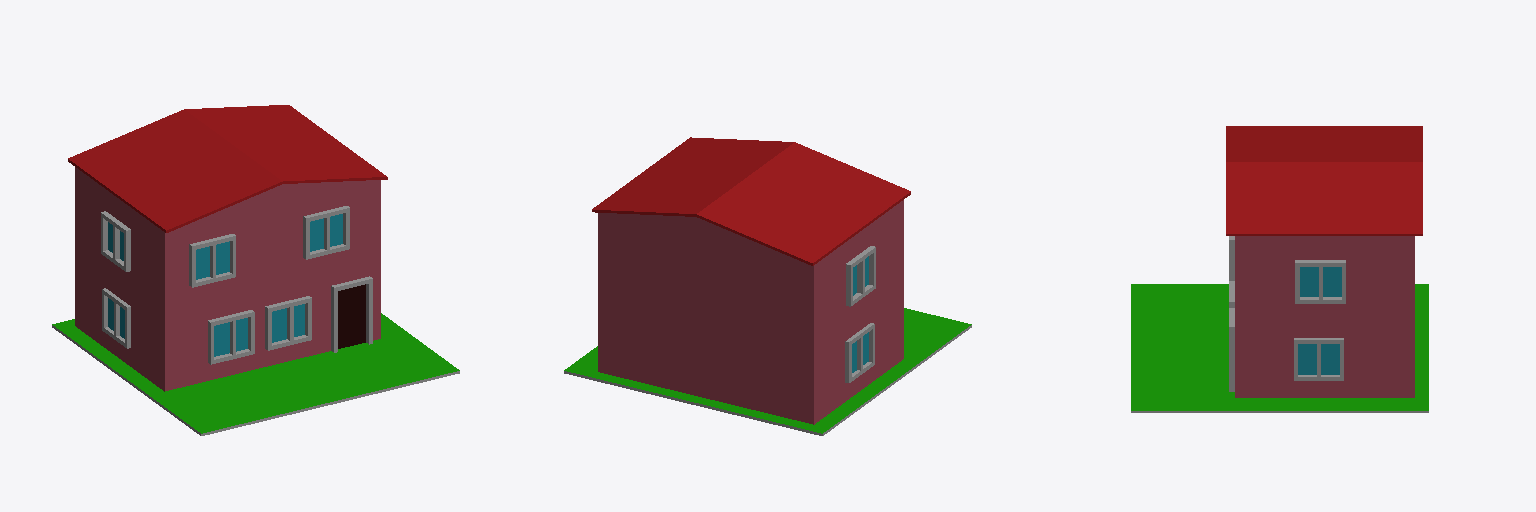
Rendered from house2.obj.
3 views of the same model, side by side, from view 1: azimuth 30°, elevation 25°; view 2: azimuth 150°, elevation 25°; view 3: azimuth 270°, elevation 25° (orthographic).
Parts seen in each view (by area): view 1: casa2temp; view 2: casa2temp; view 3: casa2temp.
Boxes of the visible parts, x1,y1,x2,y2 form: casa2temp: [52, 105, 459, 435]; casa2temp: [564, 137, 971, 435]; casa2temp: [1131, 126, 1428, 412].
Size of the model in its own units: 1 by 0.6959 by 1.